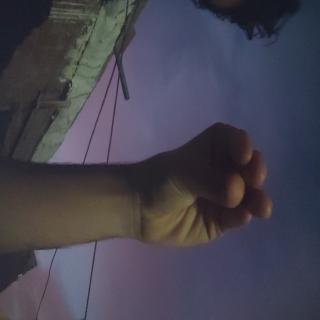HA: (85, 52, 194, 256)
